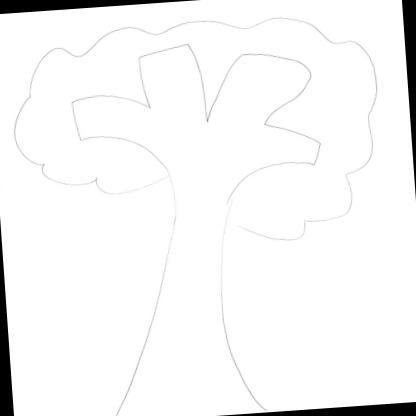branch_cut: (69, 35, 323, 194)
crown_cloud: (9, 9, 388, 258)
trunk_reflex: (121, 233, 242, 382)
